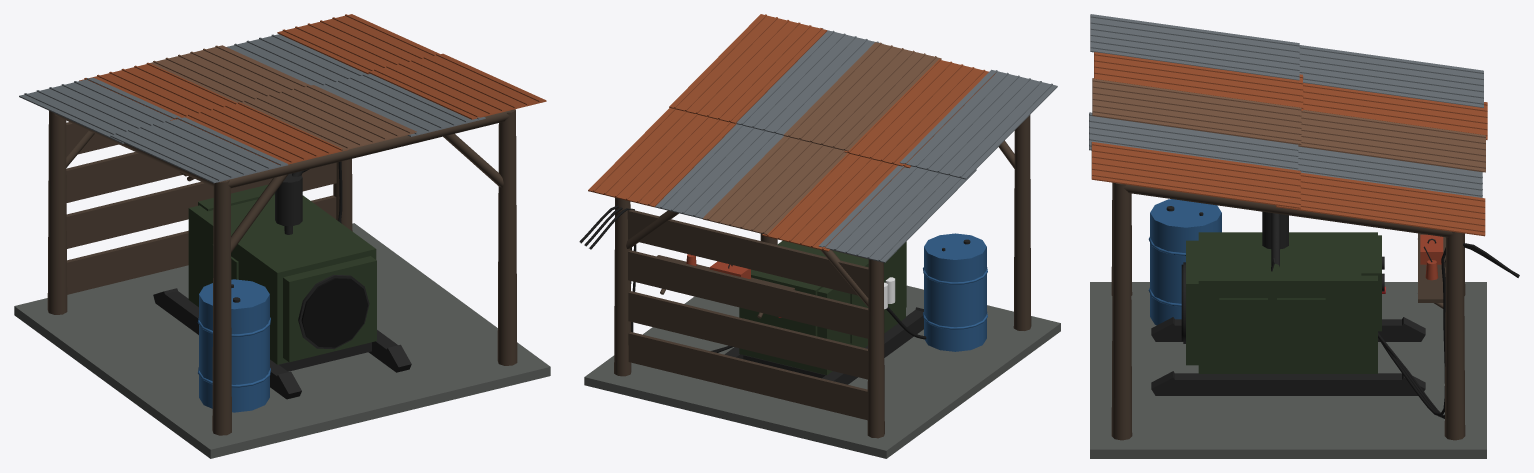
Rendered from generator-shed.glb.
The picture shows the model from 3 angles, left to right: view 1: azimuth 30°, elevation 25°; view 2: azimuth 150°, elevation 25°; view 3: azimuth 270°, elevation 25°; orthographic projection. The views are drawn at different scales.
Parts seen in each view (by area): view 1: Mesh_Foundation, Mesh_GenBlock, Mesh_FuelDrum, Mesh_BackPlank2, Mesh_PostFR, Mesh_RoofPanel_1_0_base, Mesh_RoofPanel_1_4_base, Mesh_PostFL, Mesh_BackPlank1, Mesh_RoofPanel_1_2_base, Mesh_RadHousing, Mesh_RoofPanel_0_4_base (+21 smaller); view 2: Mesh_Foundation, Mesh_BackPlank3, Mesh_BackPlank2, Mesh_BackPlank1, Mesh_BackPlank4, Mesh_FuelDrum, Mesh_RoofPanel_1_0_base, Mesh_RoofPanel_1_4_base, Mesh_RoofPanel_1_2_base, Mesh_RoofPanel_0_0_base, Mesh_RoofPanel_0_4_base, Mesh_RoofPanel_0_2_base (+12 smaller); view 3: Mesh_Foundation, Mesh_GenBlock, Mesh_RoofPanel_1_0_base, Mesh_RoofPanel_1_4_base, Mesh_RoofPanel_1_2_base, Mesh_RoofPanel_0_0_base, Mesh_RoofPanel_0_2_base, Mesh_RoofPanel_0_4_base, Mesh_SkidL, Mesh_PostFL, Mesh_FuelDrum, Mesh_RoofPanel_1_3_base (+71 smaller).
Boxes of the visible parts, left/top/right/bottom form: Mesh_Foundation: left=14, top=223, right=550, bottom=458; Mesh_GenBlock: left=188, top=195, right=376, bottom=364; Mesh_FuelDrum: left=199, top=279, right=269, bottom=412; Mesh_BackPlank2: left=66, top=162, right=336, bottom=248; Mesh_PostFR: left=212, top=180, right=231, bottom=435; Mesh_RoofPanel_1_0_base: left=368, top=53, right=546, bottom=119; Mesh_RoofPanel_1_4_base: left=110, top=117, right=287, bottom=183; Mesh_PostFL: left=497, top=109, right=517, bottom=365; Mesh_BackPlank1: left=67, top=195, right=336, bottom=294; Mesh_RoofPanel_1_2_base: left=241, top=85, right=416, bottom=150; Mesh_RadHousing: left=283, top=256, right=376, bottom=362; Mesh_RoofPanel_0_4_base: left=19, top=77, right=180, bottom=143; Mesh_Foundation: left=584, top=285, right=1060, bottom=458; Mesh_BackPlank3: left=628, top=250, right=868, bottom=338; Mesh_BackPlank2: left=628, top=291, right=867, bottom=379; Mesh_BackPlank1: left=628, top=332, right=867, bottom=420; Mesh_BackPlank4: left=627, top=209, right=868, bottom=297; Mesh_FuelDrum: left=924, top=233, right=986, bottom=351; Mesh_RoofPanel_1_0_base: left=669, top=14, right=827, bottom=123; Mesh_RoofPanel_1_4_base: left=899, top=69, right=1057, bottom=179; Mesh_RoofPanel_1_2_base: left=783, top=42, right=941, bottom=151; Mesh_RoofPanel_0_0_base: left=588, top=108, right=736, bottom=207; Mesh_RoofPanel_0_4_base: left=818, top=165, right=976, bottom=262; Mesh_RoofPanel_0_2_base: left=702, top=136, right=847, bottom=234; Mesh_Foundation: left=1090, top=282, right=1486, bottom=458; Mesh_GenBlock: left=1198, top=232, right=1377, bottom=373; Mesh_RoofPanel_1_0_base: left=1091, top=142, right=1300, bottom=208; Mesh_RoofPanel_1_4_base: left=1090, top=14, right=1299, bottom=80; Mesh_RoofPanel_1_2_base: left=1092, top=78, right=1301, bottom=144; Mesh_RoofPanel_0_0_base: left=1276, top=172, right=1485, bottom=236; Mesh_RoofPanel_0_2_base: left=1298, top=110, right=1485, bottom=172; Mesh_RoofPanel_0_4_base: left=1299, top=45, right=1483, bottom=107; Mesh_SkidL: left=1173, top=373, right=1403, bottom=395; Mesh_PostFL: left=1111, top=182, right=1132, bottom=440; Mesh_FuelDrum: left=1150, top=199, right=1221, bottom=325; Mesh_RoofPanel_1_3_base: left=1094, top=52, right=1302, bottom=110.
Bounding box in the file's own units: 3.1 × 2.41 × 3.36.
